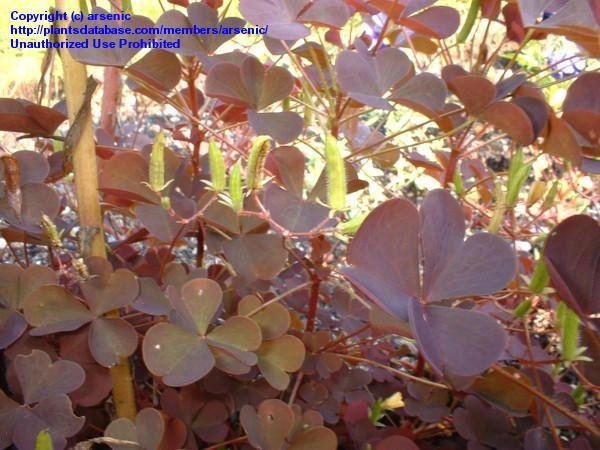oxalis: (31, 242, 325, 450)
